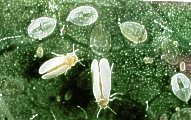whitefly: (89, 58, 123, 119), (39, 44, 85, 82)
